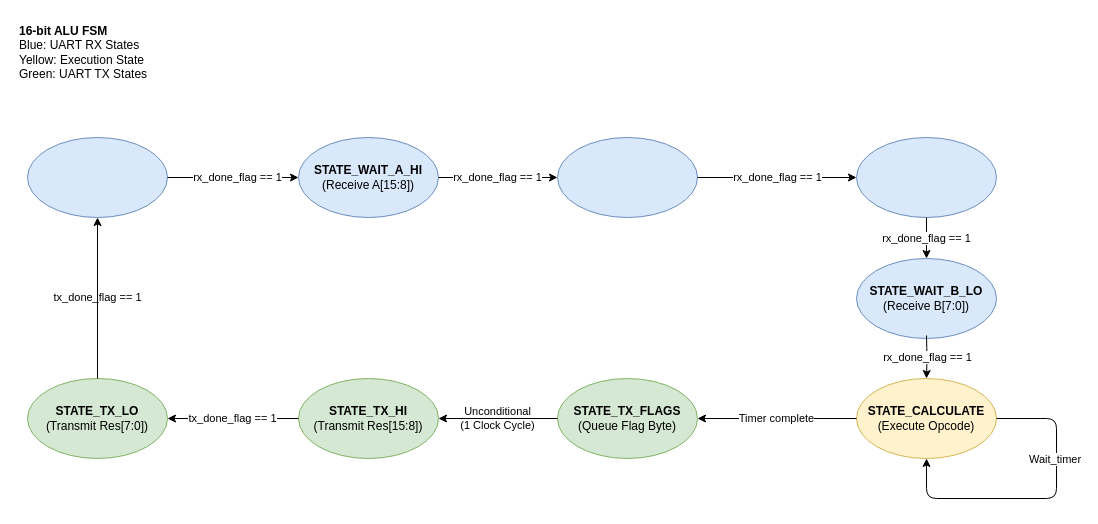
Some shapes in this 1098 by 524 pixel diagram are drawn without their labels. Here are the shapes that lost their labels. From the top down, the centre of each, then its label:
At pixel 97 177: "STATE_IDLE (Wait for Opcode)".
At pixel 627 177: "STATE_WAIT_A_LO (Receive A[7:0])".
At pixel 926 177: "STATE_WAIT_B_HI (Receive B[15:8])".
